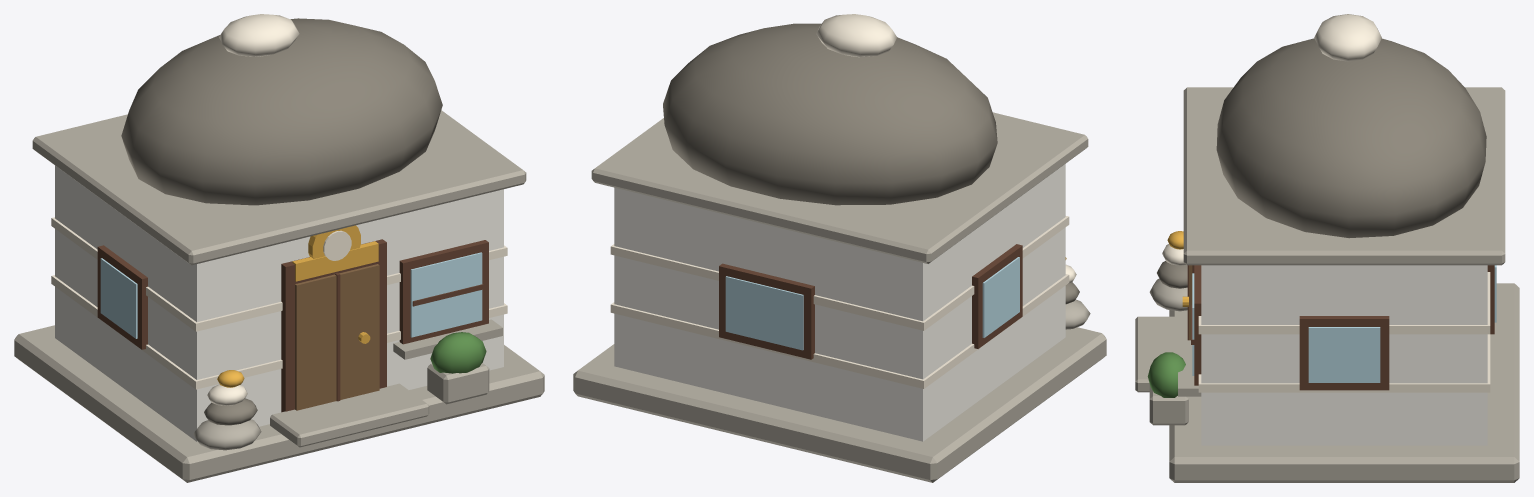
Rendered from studio.glb.
3 views of the same model, side by side, from view 1: azimuth 30°, elevation 25°; view 2: azimuth 150°, elevation 25°; view 3: azimuth 270°, elevation 25° (orthographic).
Visible parts, largest first — view 1: e_pebble, e_walls, e_eave, e_base, e_door, e_step, e_win, e_door_frame, e_win_f, e_pebble_top, e_course1, e_sw2 (+12 smaller); view 2: e_walls, e_pebble, e_eave, e_base, e_bw, e_course0, e_course1, e_bw_f, e_pebble_top, e_sw2, e_sw2_f, e_cairn0; view 3: e_pebble, e_walls, e_eave, e_base, e_sw1, e_sw1_f, e_course0, e_step, e_pebble_top, e_course1, e_shrub, e_planter (+4 smaller).
Boxes of the visible parts, x1,y1,x2,y2 form: e_pebble: [121, 18, 442, 205]; e_walls: [55, 165, 503, 441]; e_eave: [32, 110, 526, 265]; e_base: [14, 325, 544, 482]; e_door: [295, 264, 379, 410]; e_step: [270, 383, 429, 447]; e_win: [410, 252, 482, 337]; e_door_frame: [281, 239, 386, 412]; e_win_f: [399, 240, 488, 344]; e_pebble_top: [219, 14, 299, 56]; e_course1: [51, 217, 507, 331]; e_sw2: [100, 258, 137, 338]; e_walls: [614, 164, 1065, 441]; e_pebble: [663, 23, 997, 205]; e_eave: [591, 112, 1088, 263]; e_base: [573, 327, 1106, 482]; e_bw: [725, 276, 803, 350]; e_course0: [610, 274, 1069, 388]; e_course1: [610, 216, 1069, 330]; e_bw_f: [719, 263, 814, 359]; e_pebble_top: [816, 14, 896, 57]; e_sw2: [982, 257, 1019, 337]; e_sw2_f: [972, 244, 1022, 348]; e_cairn0: [1065, 299, 1090, 329]; e_pebble: [1216, 38, 1486, 238]; e_walls: [1201, 265, 1487, 445]; e_eave: [1183, 87, 1505, 265]; e_base: [1169, 283, 1519, 482]; e_sw1: [1308, 327, 1380, 382]; e_sw1_f: [1299, 316, 1389, 390]; e_course0: [1198, 334, 1490, 392]; e_step: [1135, 316, 1187, 392]; e_pebble_top: [1314, 14, 1381, 61]; e_course1: [1198, 272, 1490, 334]; e_shrub: [1147, 352, 1185, 397]; e_planter: [1149, 384, 1188, 425].
Bounding box in the file's own units: 2.36 × 2.25 × 2.15.
